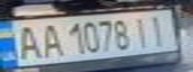0: (81, 18, 100, 53)
1: (63, 19, 84, 55)
7: (96, 16, 115, 52)
8: (112, 16, 136, 51)
A: (9, 22, 45, 61), (33, 20, 63, 58)
I: (145, 11, 172, 46), (130, 15, 157, 48)
